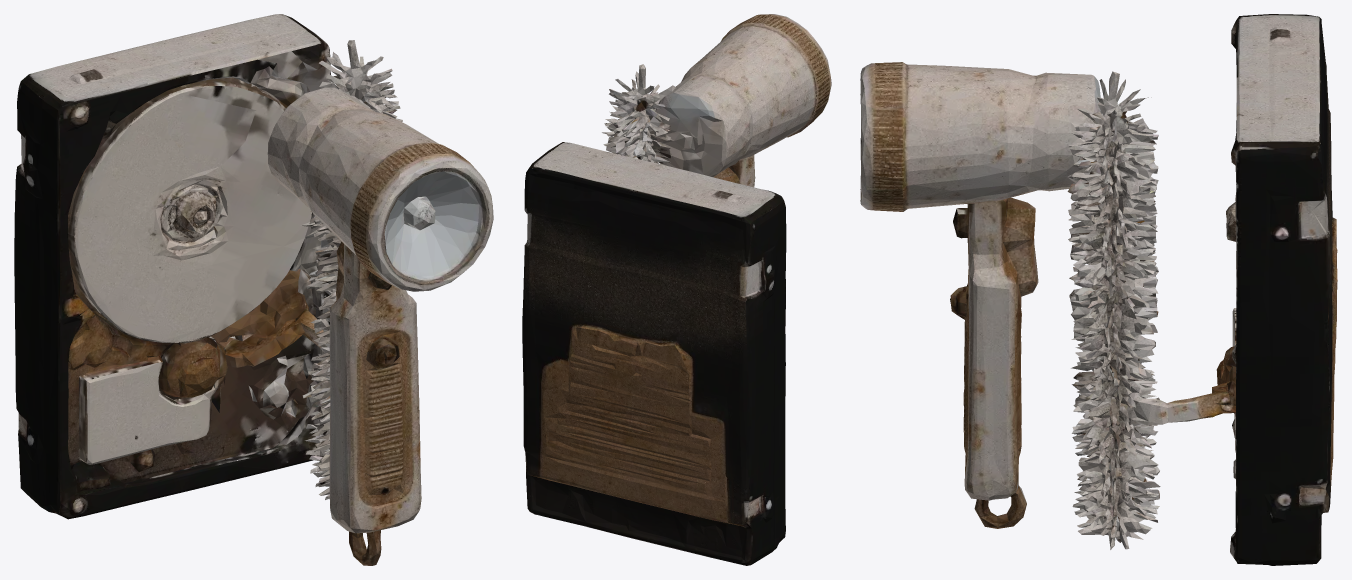
Rendered from tail (120).glb.
3 renders of one model, left to right at view 1: azimuth 30°, elevation 25°; view 2: azimuth 150°, elevation 25°; view 3: azimuth 270°, elevation 25°, orthographic. The views are drawn at different scales.
Visible parts, largest first — view 1: Hy21_Mesh.obj; view 2: Hy21_Mesh.obj; view 3: Hy21_Mesh.obj.
Part boxes in pixels (left/top/right/bottom): Hy21_Mesh.obj: left=14, top=14, right=493, bottom=565; Hy21_Mesh.obj: left=522, top=14, right=831, bottom=565; Hy21_Mesh.obj: left=860, top=14, right=1337, bottom=565.
Bounding box in the file's own units: 1.16 × 1.83 × 1.65.
1 material, 1 textured.
